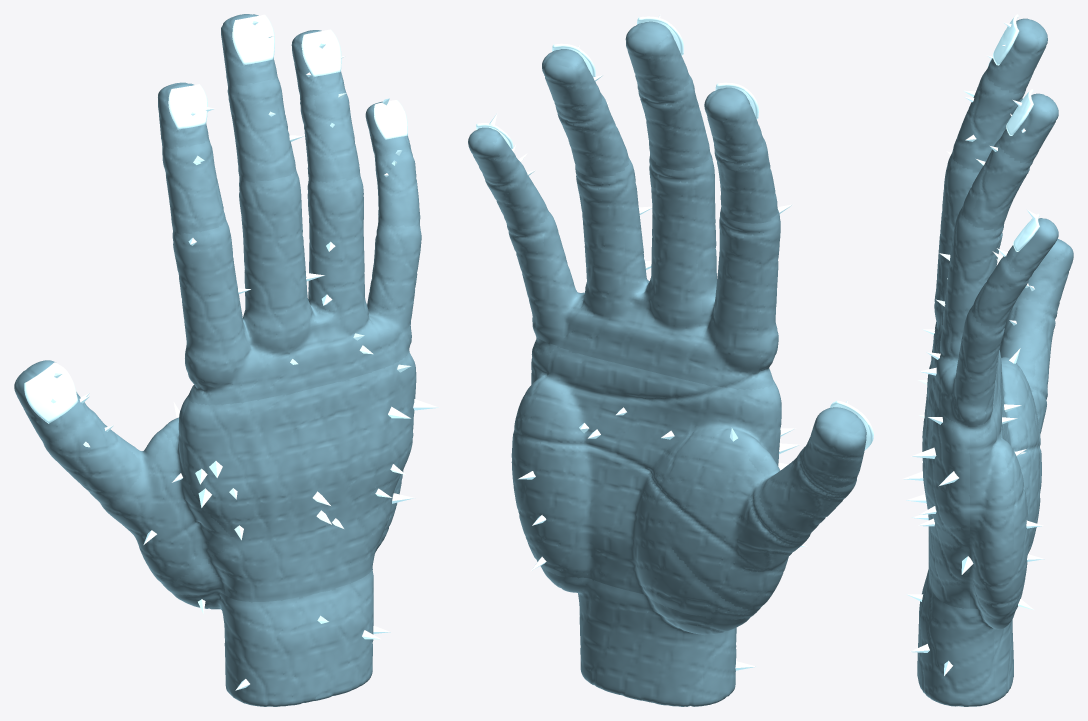
The model's file is family-16.glb.
3 renders of one model, left to right at view 1: azimuth 30°, elevation 25°; view 2: azimuth 150°, elevation 25°; view 3: azimuth 270°, elevation 25°, orthographic. The views are drawn at different scales.
Visible parts, largest first — view 1: knuckles__knuckles_sculpt, back_of_hand__back_of_hand_sculpt, middle_sections__middle_sections_sculpt, wrist__wrist_sculpt, fingertips__fingertips_sculpt, palm__palm_sculpt, nails__thumb_claw, nails__middle_claw, back_of_hand, nails__ring_claw, nails__index_claw, nails__pinky_claw; view 2: knuckles__knuckles_sculpt, palm__palm_sculpt, middle_sections__middle_sections_sculpt, wrist__wrist_sculpt, fingertips__fingertips_sculpt; view 3: palm__palm_sculpt, knuckles__knuckles_sculpt, middle_sections__middle_sections_sculpt, wrist__wrist_sculpt, fingertips__fingertips_sculpt, back_of_hand__back_of_hand_sculpt, back_of_hand, nails__middle_claw, nails__ring_claw, palm, nails__pinky_claw, knuckles.
Part boxes in pixels (x1,y1,x2,y2): knuckles__knuckles_sculpt: [100, 170, 421, 584]; back_of_hand__back_of_hand_sculpt: [182, 350, 416, 602]; middle_sections__middle_sections_sculpt: [43, 77, 420, 504]; wrist__wrist_sculpt: [172, 550, 376, 706]; fingertips__fingertips_sculpt: [14, 14, 411, 444]; palm__palm_sculpt: [161, 395, 403, 595]; nails__thumb_claw: [24, 362, 78, 423]; nails__middle_claw: [232, 14, 274, 65]; back_of_hand: [195, 364, 438, 540]; nails__ring_claw: [301, 29, 341, 76]; nails__index_claw: [168, 84, 207, 129]; nails__pinky_claw: [374, 100, 407, 139]; knuckles__knuckles_sculpt: [507, 153, 810, 610]; palm__palm_sculpt: [511, 336, 777, 620]; middle_sections__middle_sections_sculpt: [483, 74, 856, 538]; wrist__wrist_sculpt: [541, 567, 749, 706]; fingertips__fingertips_sculpt: [468, 21, 866, 487]; palm__palm_sculpt: [968, 350, 1040, 620]; knuckles__knuckles_sculpt: [931, 153, 1047, 491]; middle_sections__middle_sections_sculpt: [952, 70, 1057, 387]; wrist__wrist_sculpt: [917, 569, 1014, 706]; fingertips__fingertips_sculpt: [986, 18, 1073, 310]; back_of_hand__back_of_hand_sculpt: [922, 361, 969, 608]; back_of_hand: [903, 379, 973, 574]; nails__middle_claw: [992, 14, 1019, 65]; nails__ring_claw: [1006, 89, 1033, 135]; palm: [1002, 348, 1044, 609]; nails__pinky_claw: [1013, 213, 1039, 251]; knuckles: [919, 151, 951, 375].
Bounding box in the file's own units: 0.1314 × 0.2173 × 0.0523.
Materials: 2 (1 with a texture image).
